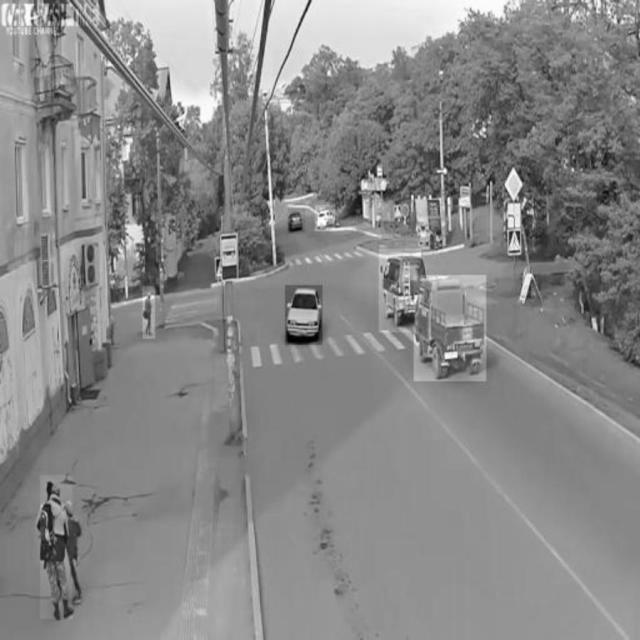person: (40, 475, 72, 619), (142, 286, 156, 338)
vehicle: (414, 275, 486, 381), (379, 250, 421, 333), (285, 285, 322, 345), (315, 206, 335, 232), (287, 208, 305, 234)
